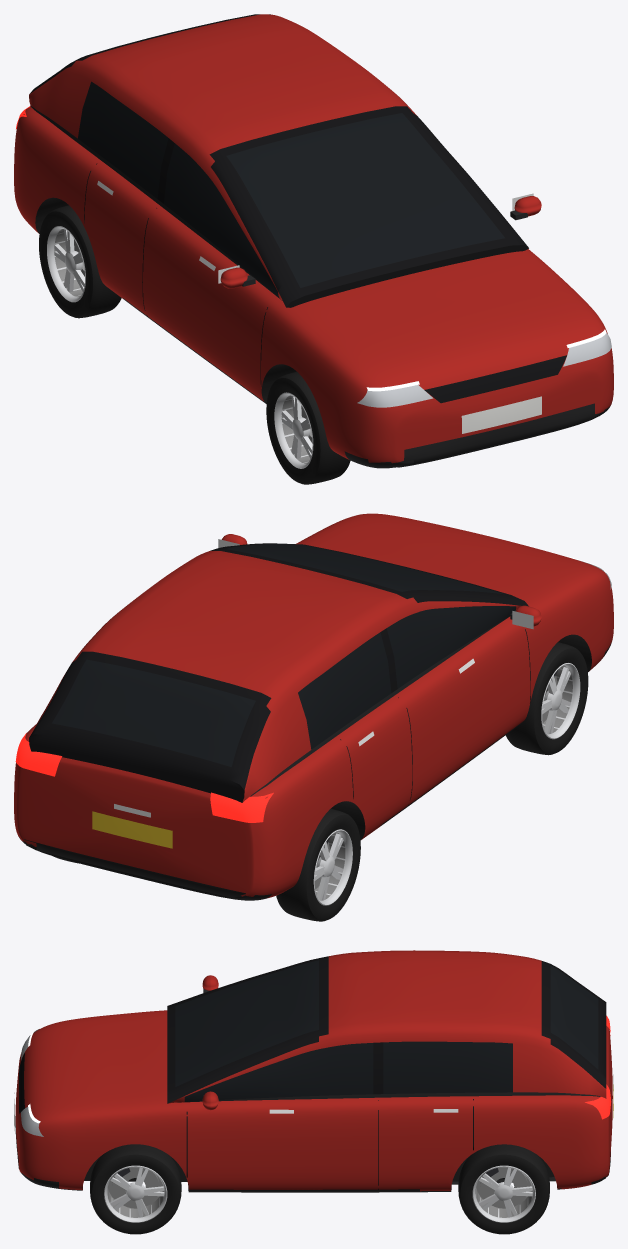
File: car.glb
The picture shows the model from 3 angles, top to bottom: view 1: azimuth 30°, elevation 25°; view 2: azimuth 150°, elevation 25°; view 3: azimuth 270°, elevation 25°; orthographic projection. The views are drawn at different scales.
Visible parts, largest first — view 1: Greenhouse, BodyShell, Wheel_FL_Spin, Wheel_RL_Spin, Intake, Grille, PlateF, HeadlampL, HeadlampR; view 2: Greenhouse, BodyShell, Wheel_RL_Spin, Wheel_FL_Spin, Diffuser, PlateR, TailLampL, TailLampR; view 3: BodyShell, Greenhouse, Wheel_FR_Spin, Wheel_RR_Spin, Wheel_FR_Brake, Wheel_RR_Brake.
Part boxes in pixels (<box>): Greenhouse: <box>29,14,528,307</box>; BodyShell: <box>14,107,613,468</box>; Wheel_FL_Spin: <box>266,371,350,484</box>; Wheel_RL_Spin: <box>39,205,121,318</box>; Intake: <box>398,403,594,467</box>; Grille: <box>424,355,566,403</box>; PlateF: <box>461,396,541,433</box>; HeadlampL: <box>357,385,433,407</box>; HeadlampR: <box>563,333,611,366</box>; Greenhouse: <box>29,543,528,802</box>; BodyShell: <box>14,513,613,900</box>; Wheel_RL_Spin: <box>276,808,360,921</box>; Wheel_FL_Spin: <box>505,642,588,755</box>; Diffuser: <box>24,839,247,899</box>; PlateR: <box>92,811,172,848</box>; TailLampL: <box>210,792,273,822</box>; TailLampR: <box>15,733,62,776</box>; BodyShell: <box>15,1010,612,1192</box>; Greenhouse: <box>167,950,606,1103</box>; Wheel_FR_Spin: <box>90,1144,181,1234</box>; Wheel_RR_Spin: <box>458,1144,549,1234</box>; Wheel_FR_Brake: <box>112,1167,159,1208</box>; Wheel_RR_Brake: <box>480,1167,527,1208</box>.
Size of the model in its own units: 2.07 by 1.52 by 4.17.
